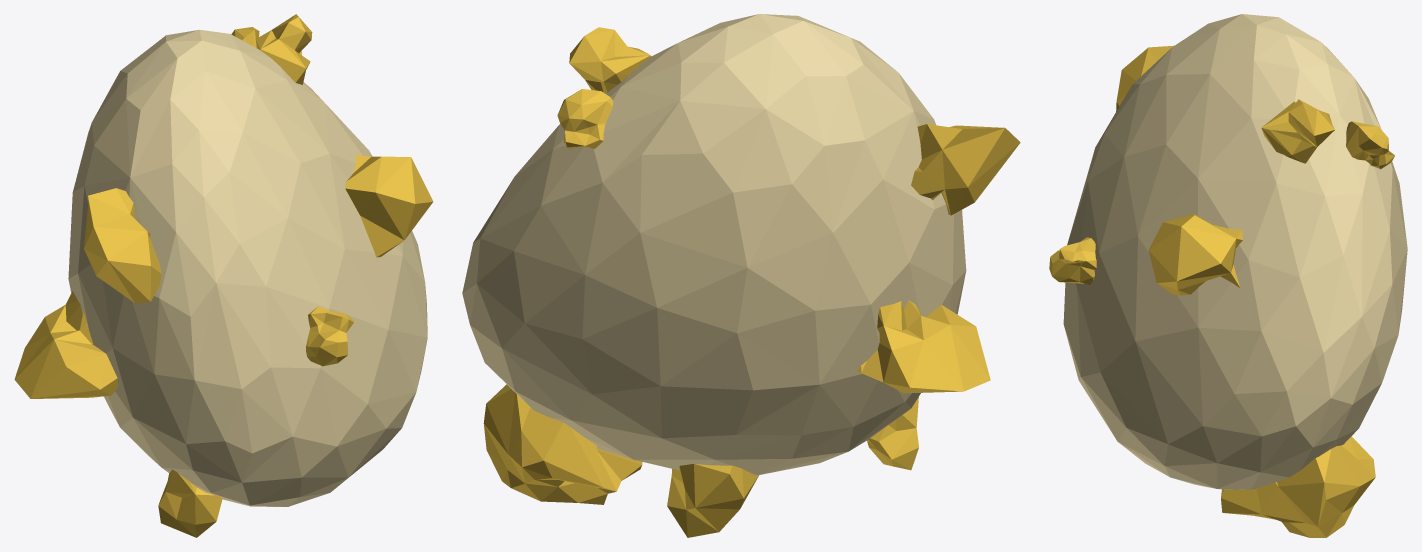
Rendered from MetalOre (18).fbx.
The picture shows the model from 3 angles, left to right: view 1: azimuth 30°, elevation 25°; view 2: azimuth 150°, elevation 25°; view 3: azimuth 270°, elevation 25°; orthographic projection. The views are drawn at different scales.
Parts seen in each view (by area): view 1: Asteroid373; view 2: Asteroid373; view 3: Asteroid373.
Boxes of the visible parts, box(x1,y1,x2,y2) form: Asteroid373: box(14, 14, 433, 537); Asteroid373: box(462, 14, 1020, 537); Asteroid373: box(1049, 14, 1407, 537).
Size of the model in its own units: 491 by 516 by 375.
